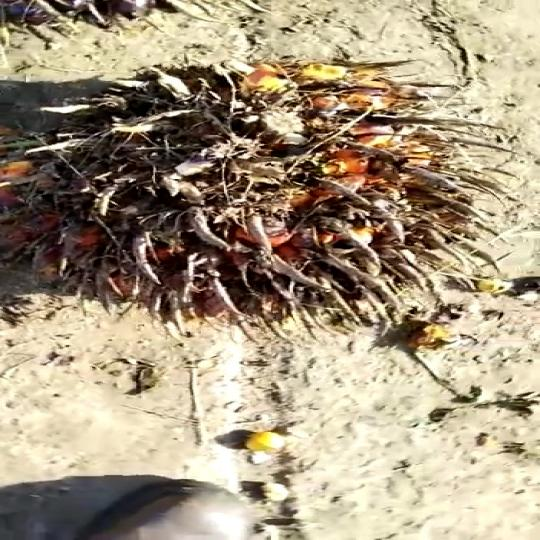terlalu masak: (0, 44, 540, 347)
